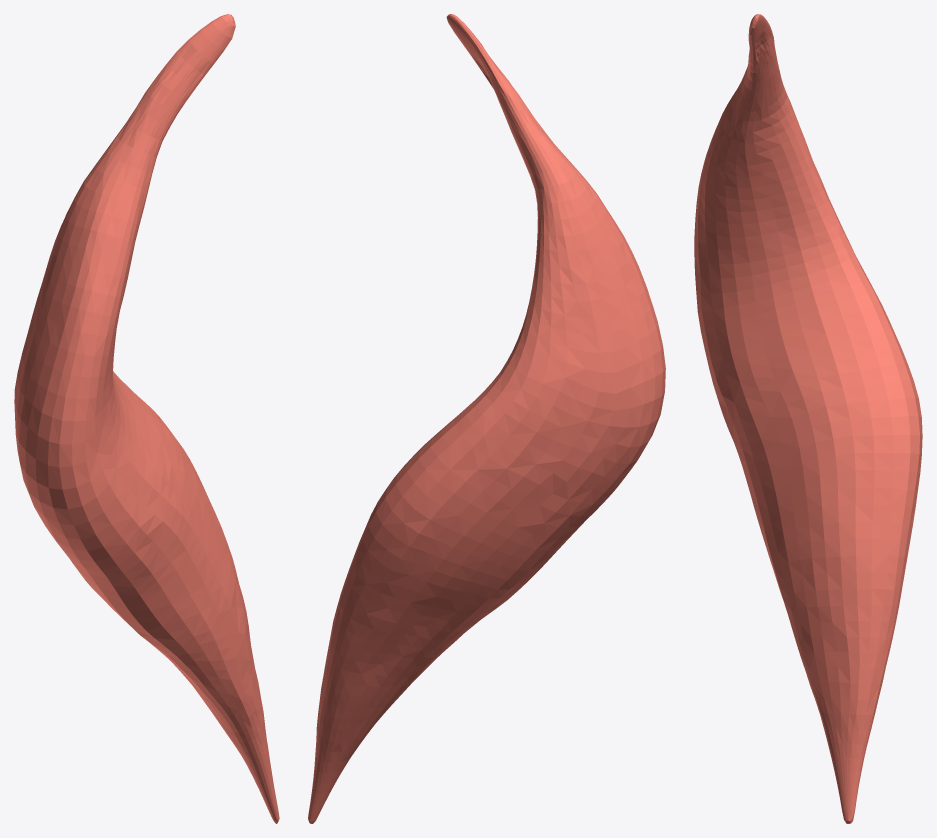
File: M_coracobrachialis.glb
3 views of the same model, side by side, from view 1: azimuth 30°, elevation 25°; view 2: azimuth 150°, elevation 25°; view 3: azimuth 270°, elevation 25° (orthographic). The views are drawn at different scales.
Parts seen in each view (by area): view 1: M_coracobrachialis; view 2: M_coracobrachialis; view 3: M_coracobrachialis.
Boxes of the visible parts, x1=… form: M_coracobrachialis: x1=14, y1=14, x2=279, y2=823; M_coracobrachialis: x1=308, y1=14, x2=665, y2=823; M_coracobrachialis: x1=694, y1=14, x2=922, y2=823.
Bounding box in the file's own units: 0.000763 × 0.00201 × 0.000543.
